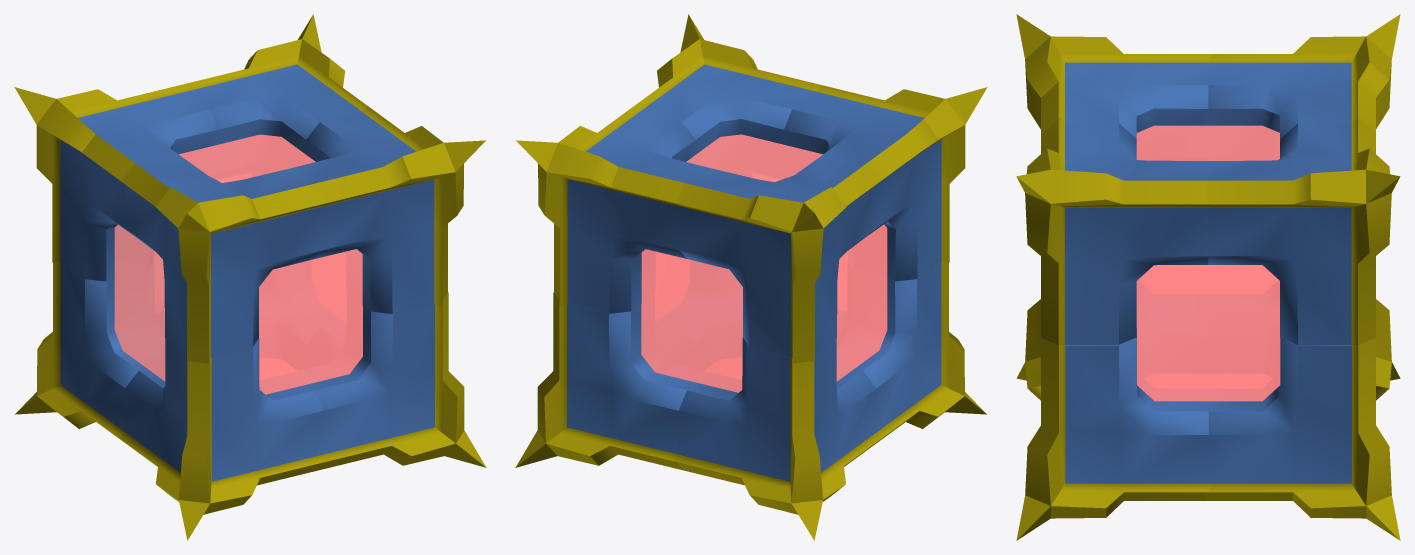
File: Collectable_Box_Model.glb
3 views of the same model, side by side, from view 1: azimuth 30°, elevation 25°; view 2: azimuth 150°, elevation 25°; view 3: azimuth 270°, elevation 25° (orthographic). The views are drawn at different scales.
Visible parts, largest first — view 1: pasted__Corner20.001, pasted__Corner19, pasted__Corner19.001, pasted__Corner21.001, pasted__Corner20, pasted__pPlane2, pasted__Corner, pasted__Corner.001, pasted__pPlane1, pasted__pPlane5; view 2: pasted__Corner21.001, pasted__Corner, pasted__Corner.001, pasted__Corner20.001, pasted__Corner21, pasted__pPlane4, pasted__Corner19, pasted__Corner19.001, pasted__pPlane1, pasted__pPlane5; view 3: pasted__Corner.001, pasted__Corner19.001, pasted__Corner21, pasted__Corner20, pasted__pPlane3, pasted__Corner20.001, pasted__Corner21.001, pasted__pPlane5, pasted__Corner, pasted__Corner19.
Part boxes in pixels (bbox=[...]): pasted__Corner20.001: bbox=[121, 156, 327, 363]; pasted__Corner19: bbox=[119, 338, 327, 540]; pasted__Corner19.001: bbox=[291, 106, 485, 313]; pasted__Corner21.001: bbox=[14, 84, 217, 281]; pasted__Corner20: bbox=[307, 292, 486, 470]; pasted__pPlane2: bbox=[259, 249, 362, 394]; pasted__Corner: bbox=[15, 261, 146, 448]; pasted__Corner.001: bbox=[185, 14, 367, 154]; pasted__pPlane1: bbox=[114, 224, 165, 381]; pasted__pPlane5: bbox=[179, 134, 315, 182]; pasted__Corner21.001: bbox=[676, 156, 883, 363]; pasted__Corner: bbox=[674, 338, 880, 540]; pasted__Corner.001: bbox=[516, 104, 710, 313]; pasted__Corner20.001: bbox=[784, 85, 987, 281]; pasted__Corner21: bbox=[515, 292, 696, 470]; pasted__pPlane4: bbox=[641, 249, 742, 392]; pasted__Corner19: bbox=[855, 261, 986, 448]; pasted__Corner19.001: bbox=[636, 14, 820, 154]; pasted__pPlane1: bbox=[836, 224, 887, 381]; pasted__pPlane5: bbox=[686, 134, 822, 182]; pasted__Corner.001: bbox=[1206, 117, 1400, 344]; pasted__Corner19.001: bbox=[1016, 116, 1210, 345]; pasted__Corner21: bbox=[1205, 337, 1400, 540]; pasted__Corner20: bbox=[1016, 328, 1210, 540]; pasted__pPlane3: bbox=[1136, 265, 1280, 401]; pasted__Corner20.001: bbox=[1016, 14, 1211, 138]; pasted__Corner21.001: bbox=[1207, 14, 1400, 138]; pasted__pPlane5: bbox=[1136, 125, 1279, 160]; pasted__Corner: bbox=[1376, 299, 1400, 400]; pasted__Corner19: bbox=[1016, 299, 1040, 400].
Size of the model in its own units: 0.043 by 0.0449 by 0.0429.
